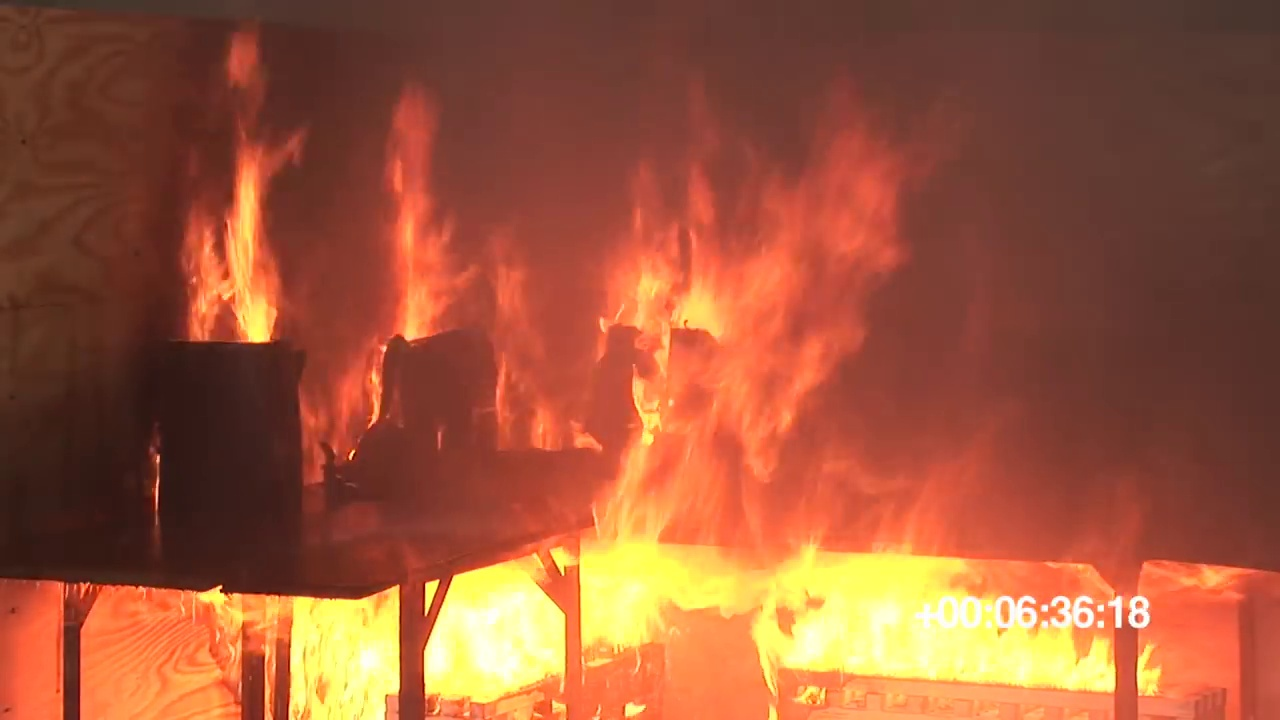fire: (602, 130, 899, 549), (243, 543, 659, 719), (761, 553, 1162, 695), (187, 130, 276, 340), (385, 90, 447, 333)
